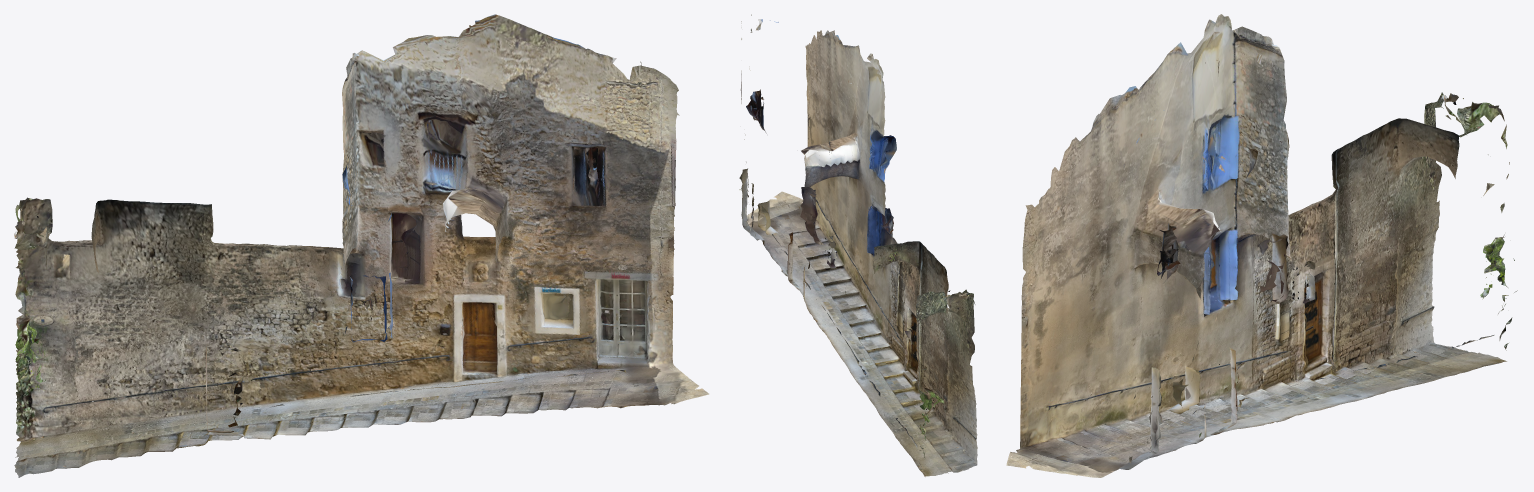
File: medium.glb
3 renders of one model, left to right at view 1: azimuth 30°, elevation 25°; view 2: azimuth 150°, elevation 25°; view 3: azimuth 270°, elevation 25°, orthographic. The views are drawn at different scales.
Visible parts, largest first — view 1: medium.020; view 2: medium.020; view 3: medium.020.
Boxes of the visible parts, x1=… form: medium.020: x1=14, y1=14, x2=709, y2=477; medium.020: x1=739, y1=14, x2=977, y2=476; medium.020: x1=1006, y1=14, x2=1517, y2=477.
Size of the model in its own units: 13.75 by 12.09 by 11.9.
1 material, 1 textured.
